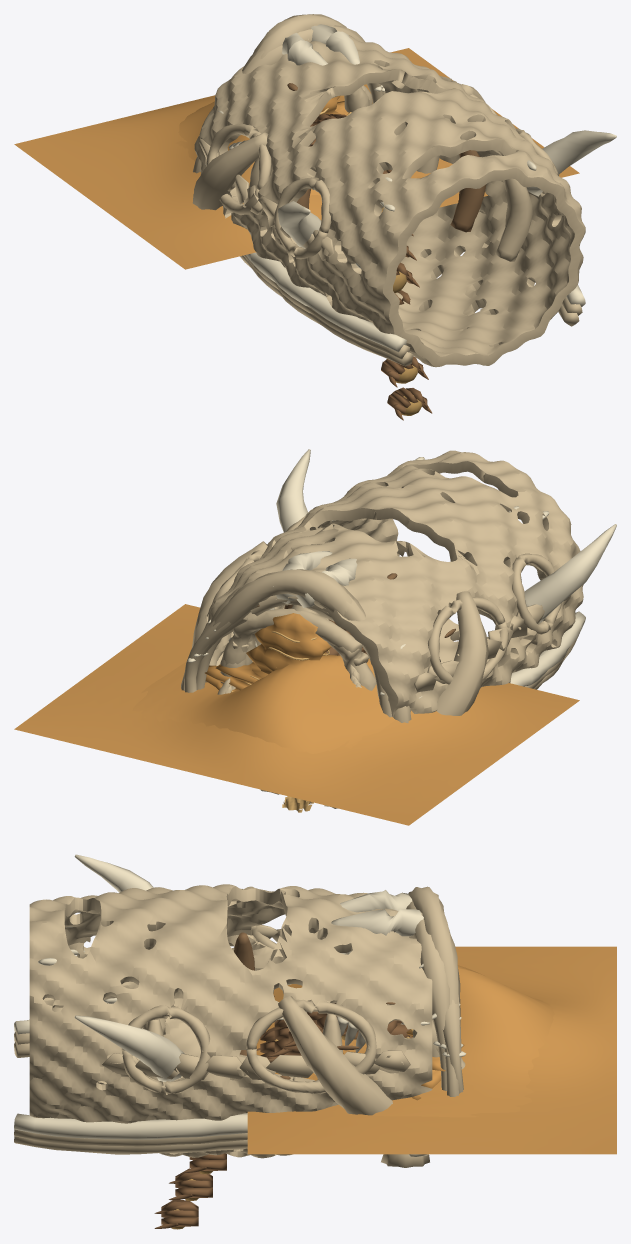
File: leviathan-kit.glb
The picture shows the model from 3 angles, top to bottom: view 1: azimuth 30°, elevation 25°; view 2: azimuth 150°, elevation 25°; view 3: azimuth 270°, elevation 25°; orthographic projection. The views are drawn at different scales.
Parts seen in each view (by area): view 1: skull_Saffron_pale_fossil, dune_1_Saffron_dune_saffron, skull_Saffron_chalk_edges, burrower_Saffron_burrower_armor, rib_2_Saffron_pale_fossil, dune_Saffron_dune_saffron, skull_Curved_chipped_cortical_layers, skull_Saffron_marrow_ochre, rib_Saffron_pale_fossil, burrower_Saffron_burrower_flanks; view 2: skull_Saffron_pale_fossil, dune_1_Saffron_dune_saffron, dune_Saffron_dune_saffron, skull_Saffron_chalk_edges, rib_2_Saffron_pale_fossil, outcrop_Saffron_dune_saffron, vertebra_2_Saffron_pale_fossil, rib_1_Saffron_pale_fossil, skull_Curved_chipped_cortical_layers, rib_Saffron_pale_fossil, outcrop_1_Saffron_dune_saffron, vertebra_Saffron_pale_fossil; view 3: skull_Saffron_pale_fossil, dune_1_Saffron_dune_saffron, dune_Saffron_dune_saffron, skull_Saffron_chalk_edges, burrower_Saffron_burrower_armor, skull_Curved_chipped_cortical_layers, rib_2_Saffron_pale_fossil, rib_Saffron_pale_fossil, rib_1_Saffron_pale_fossil, skull_Saffron_marrow_ochre, sandfall_Saffron_pale_fossil.
Part boxes in pixels (x1,y1,x2,y2): skull_Saffron_pale_fossil: [192, 35, 585, 367]; dune_1_Saffron_dune_saffron: [14, 48, 579, 269]; skull_Saffron_chalk_edges: [205, 24, 616, 352]; burrower_Saffron_burrower_armor: [309, 114, 432, 420]; rib_2_Saffron_pale_fossil: [193, 14, 385, 173]; dune_Saffron_dune_saffron: [175, 96, 452, 195]; skull_Curved_chipped_cortical_layers: [199, 139, 334, 260]; skull_Saffron_marrow_ochre: [287, 83, 486, 232]; rib_Saffron_pale_fossil: [242, 25, 382, 103]; burrower_Saffron_burrower_flanks: [382, 170, 422, 415]; skull_Saffron_pale_fossil: [192, 450, 583, 717]; dune_1_Saffron_dune_saffron: [14, 604, 579, 825]; dune_Saffron_dune_saffron: [132, 654, 413, 753]; skull_Saffron_chalk_edges: [208, 449, 616, 698]; rib_2_Saffron_pale_fossil: [181, 569, 411, 723]; outcrop_Saffron_dune_saffron: [246, 613, 331, 674]; vertebra_2_Saffron_pale_fossil: [217, 608, 376, 694]; rib_1_Saffron_pale_fossil: [184, 595, 411, 711]; skull_Curved_chipped_cortical_layers: [205, 597, 568, 691]; rib_Saffron_pale_fossil: [196, 584, 392, 717]; outcrop_1_Saffron_dune_saffron: [205, 662, 268, 692]; vertebra_Saffron_pale_fossil: [231, 605, 359, 690]; skull_Saffron_pale_fossil: [14, 884, 432, 1158]; dune_1_Saffron_dune_saffron: [247, 946, 616, 1154]; dune_Saffron_dune_saffron: [312, 965, 554, 1117]; skull_Saffron_chalk_edges: [14, 854, 429, 1139]; burrower_Saffron_burrower_armor: [154, 1003, 412, 1228]; skull_Curved_chipped_cortical_layers: [101, 924, 410, 1079]; rib_2_Saffron_pale_fossil: [408, 886, 460, 1096]; rib_Saffron_pale_fossil: [406, 901, 449, 1090]; rib_1_Saffron_pale_fossil: [443, 995, 463, 1093]; skull_Saffron_marrow_ochre: [234, 932, 395, 1079]; sandfall_Saffron_pale_fossil: [381, 1154, 429, 1167].
Bounding box in the file's own units: 366 × 276 × 449.
